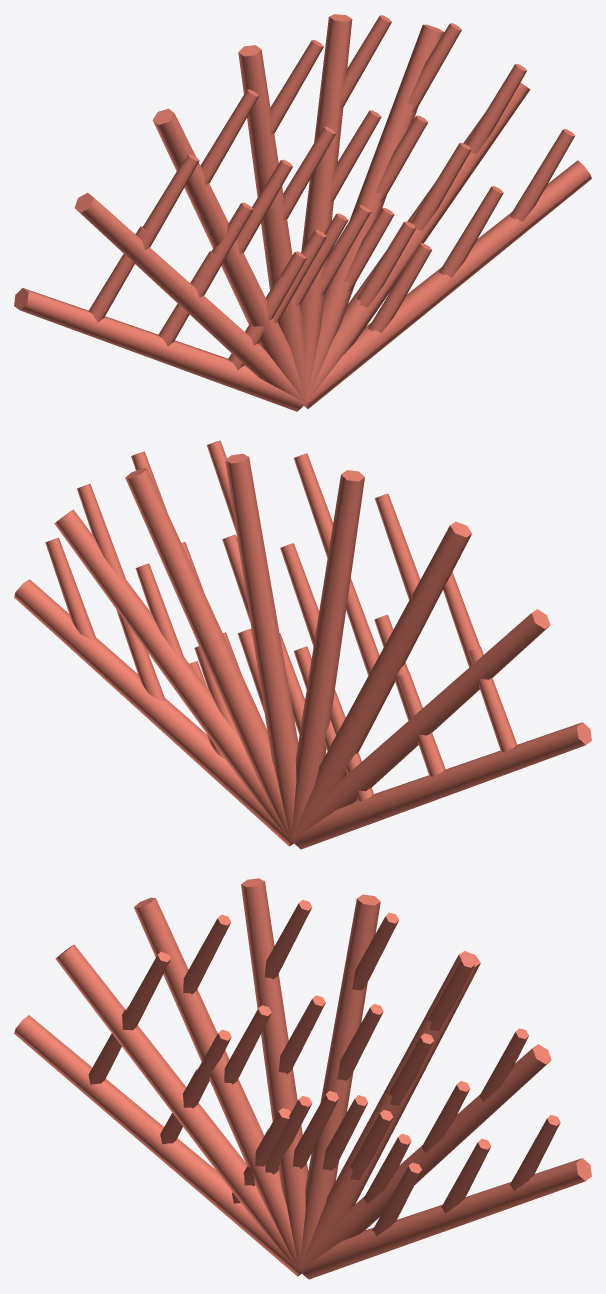
File: discovery-fan-coral.glb
The picture shows the model from 3 angles, top to bottom: view 1: azimuth 30°, elevation 25°; view 2: azimuth 150°, elevation 25°; view 3: azimuth 330°, elevation 25°; orthographic projection. The views are drawn at different scales.
Parts seen in each view (by area): view 1: coral-fan-branch (×8), coral-fan-filament (×23); view 2: coral-fan-branch (×8), coral-fan-filament (×19); view 3: coral-fan-branch (×8), coral-fan-filament (×22).
Boxes of the visible parts, x1=… form: coral-fan-branch (×8): x1=14, y1=14, x2=591, y2=411; coral-fan-filament (×23): x1=88, y1=15, x2=574, y2=346; coral-fan-branch (×8): x1=14, y1=453, x2=591, y2=849; coral-fan-filament (×19): x1=45, y1=440, x2=517, y2=801; coral-fan-branch (×8): x1=14, y1=878, x2=591, y2=1279; coral-fan-filament (×22): x1=88, y1=899, x2=560, y2=1236.
Bounding box in the file's own units: 6.63 × 4.19 × 0.7811.
